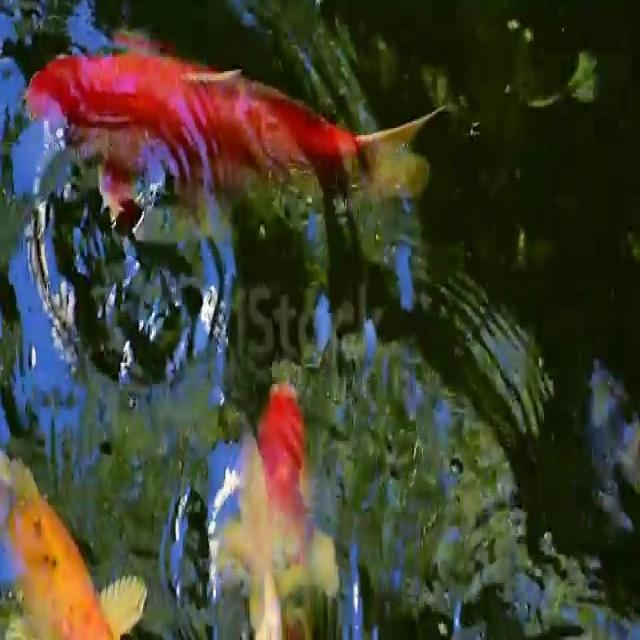fish: (21, 21, 456, 283), (0, 421, 153, 640), (257, 348, 333, 640)
